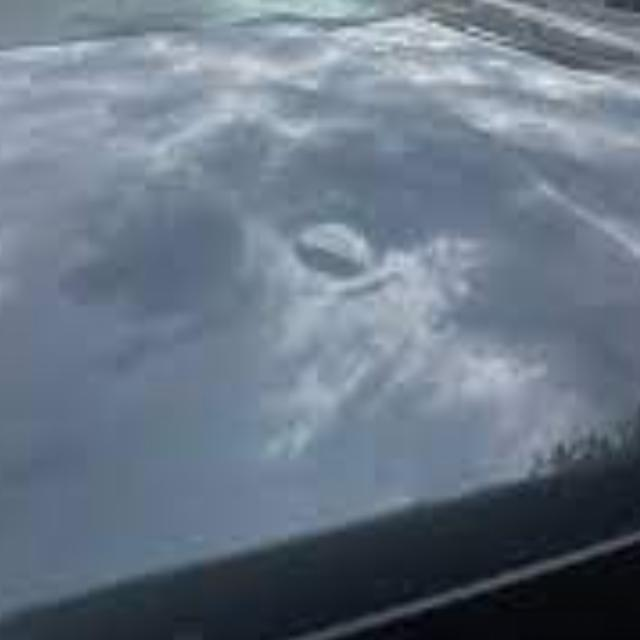dents: (289, 208, 420, 321)
